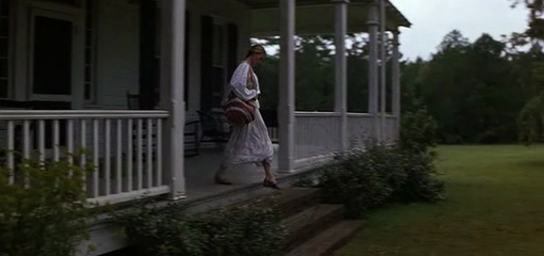els: (1, 1, 544, 256)
face: (250, 53, 266, 68)
person: (212, 44, 281, 190)
